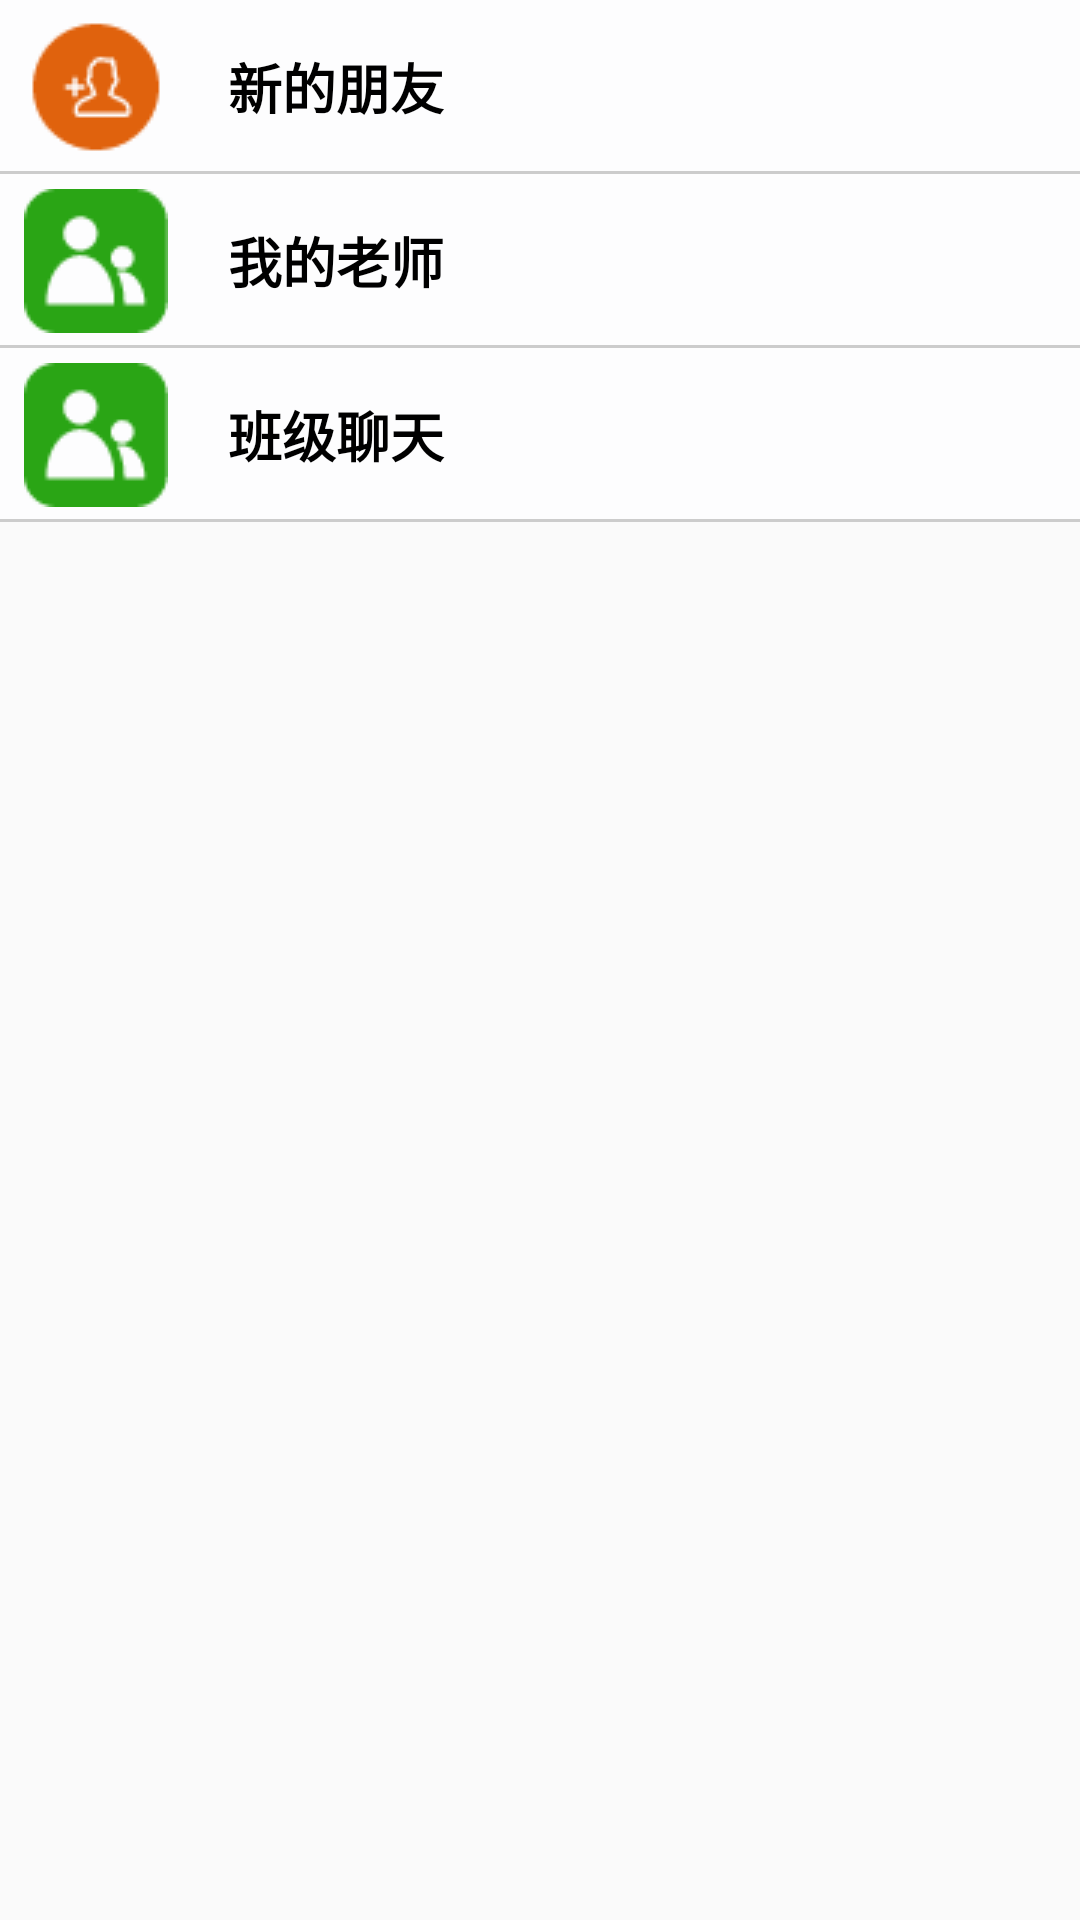

Screen size 1080×1920. Icon name, then its box in pixels as (x1, y1, x2, y2):
group chat: (24, 189, 168, 333), (24, 363, 168, 507)
